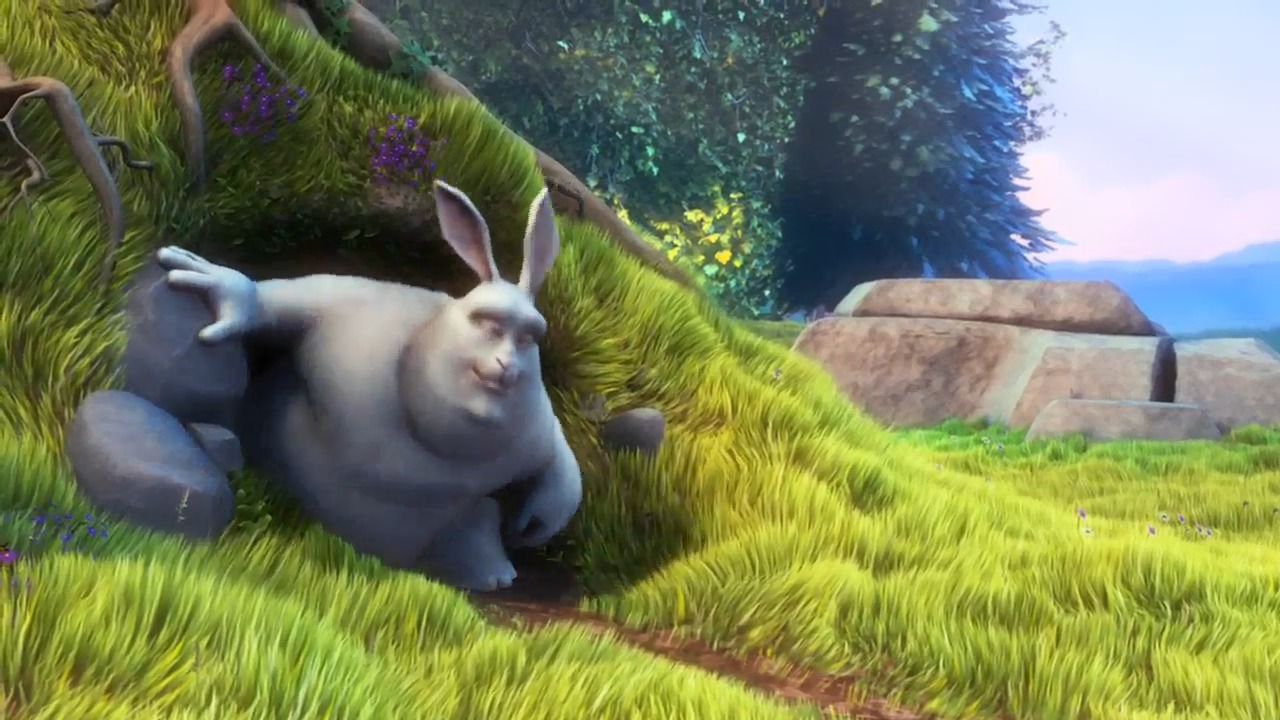person: (390, 226, 696, 414)
